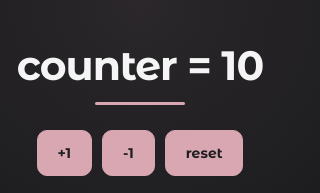
Test: MyCounterApp › should reset the header when active the reset button after change the value
Click the button "-1" at (128, 153), box [102,130,155,176]
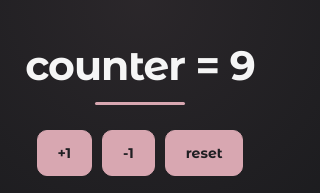
Click the button "-1" at (128, 153), box [102,130,155,176]
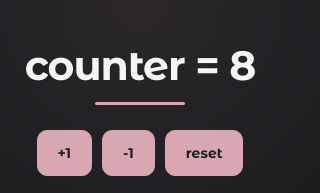
Now the heading reads "counter = 8", box [25,40,255,105]
Click the button "reset" at (204, 153), box [165,130,244,176]
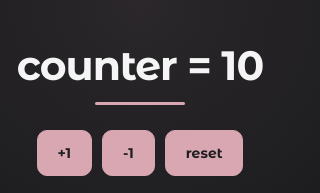
Now the heading reads "counter = 10", box [17,40,263,105]
